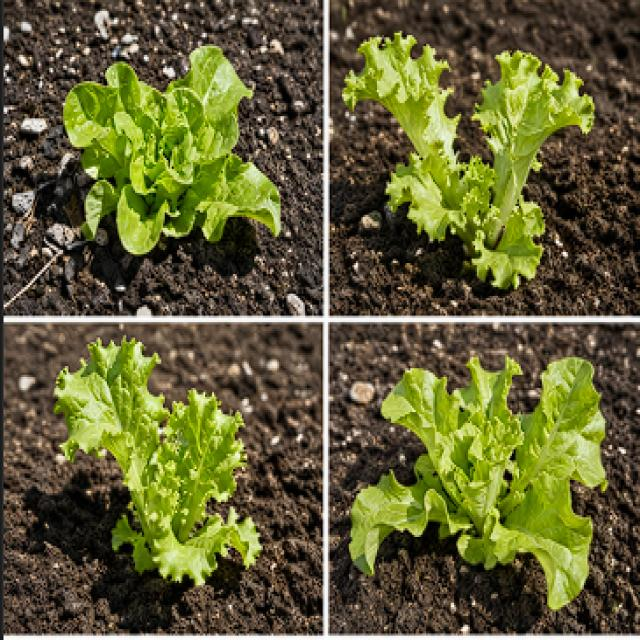inmadura: (349, 357, 605, 607), (342, 33, 593, 287), (55, 338, 260, 583), (63, 46, 279, 254)
